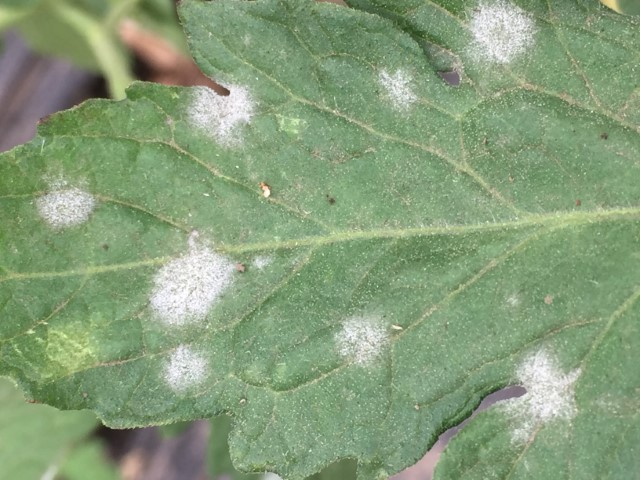oidio: (498, 345, 584, 445), (151, 232, 234, 325), (463, 1, 540, 67), (184, 83, 255, 150), (35, 174, 95, 232), (333, 313, 388, 371), (164, 344, 210, 399), (379, 66, 418, 115), (248, 251, 274, 270), (504, 291, 521, 306)
